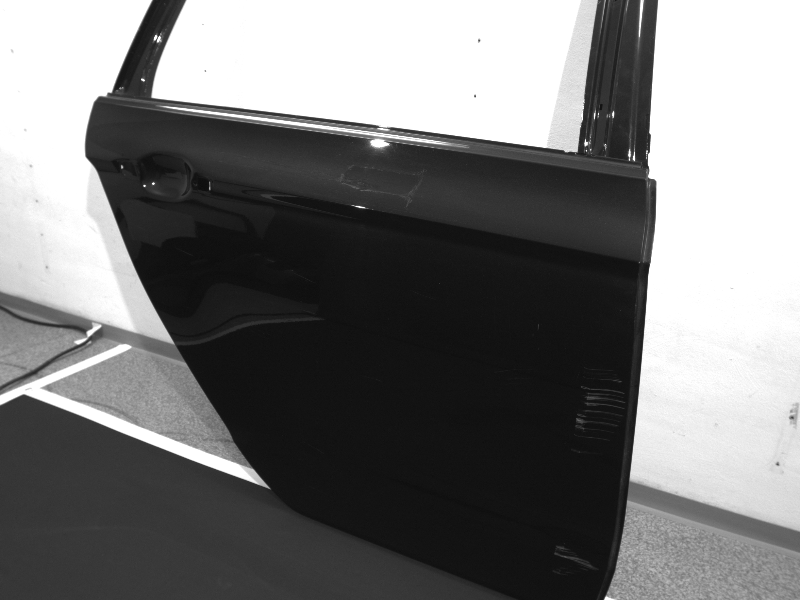scratch: (570, 368, 628, 454), (551, 544, 598, 577), (176, 247, 193, 257), (536, 323, 541, 330)
